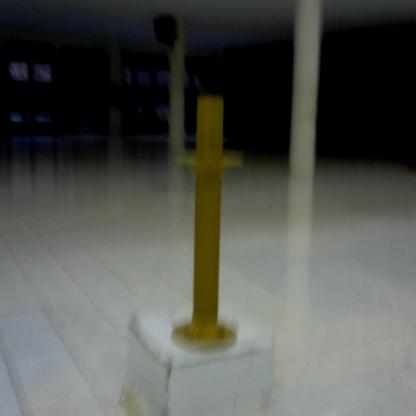pole: (166, 86, 249, 357)
